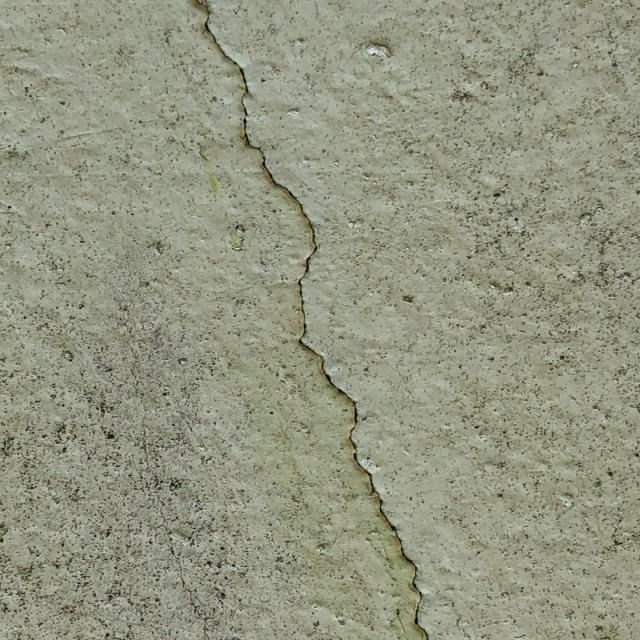SurfaceCrack: (179, 0, 458, 639)
